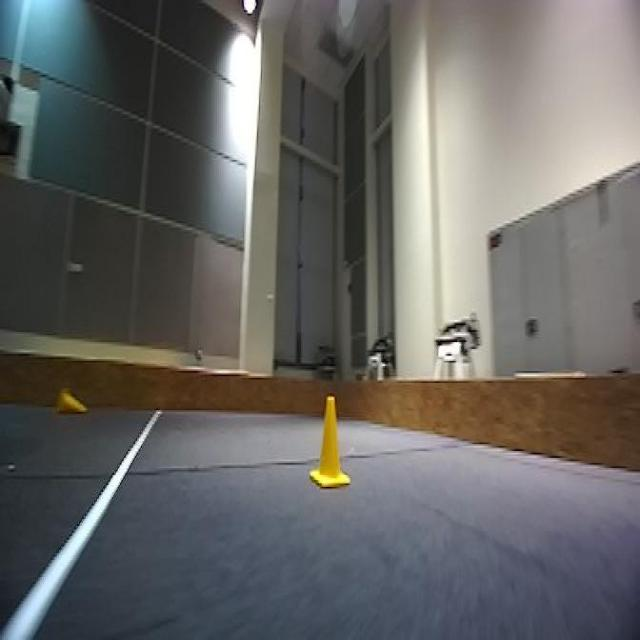frc_cone: (309, 389, 352, 494), (52, 390, 86, 419)
